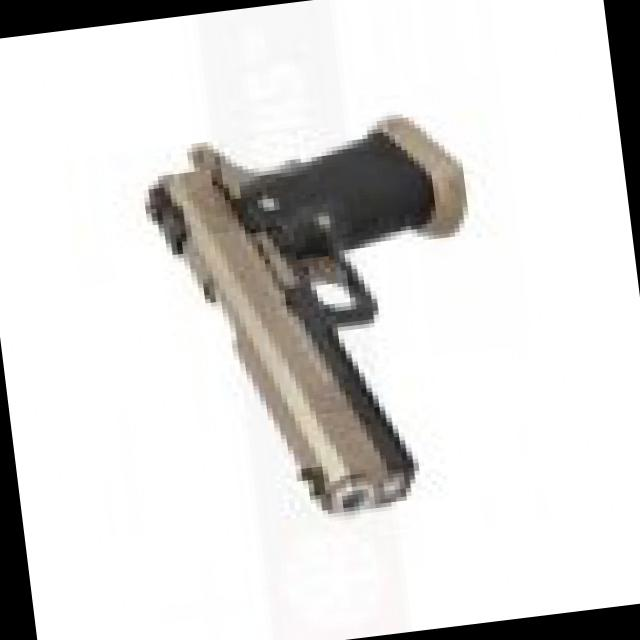handgun: (127, 106, 504, 551)
